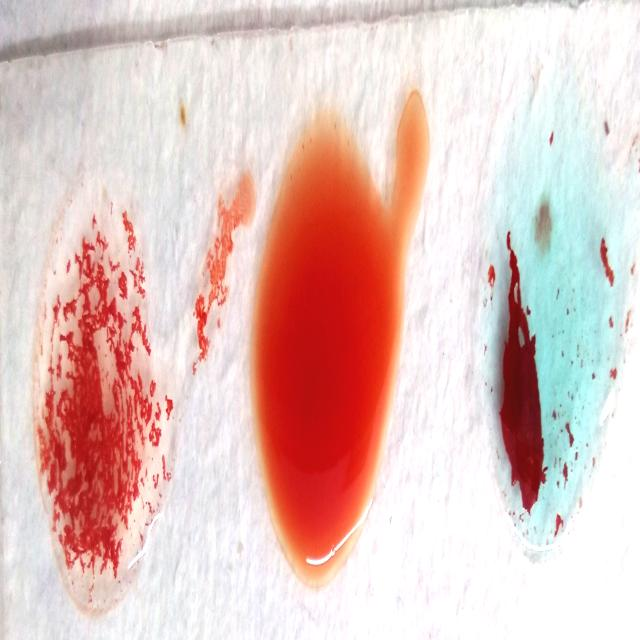A: (486, 145, 619, 542)
D: (33, 174, 173, 608)
